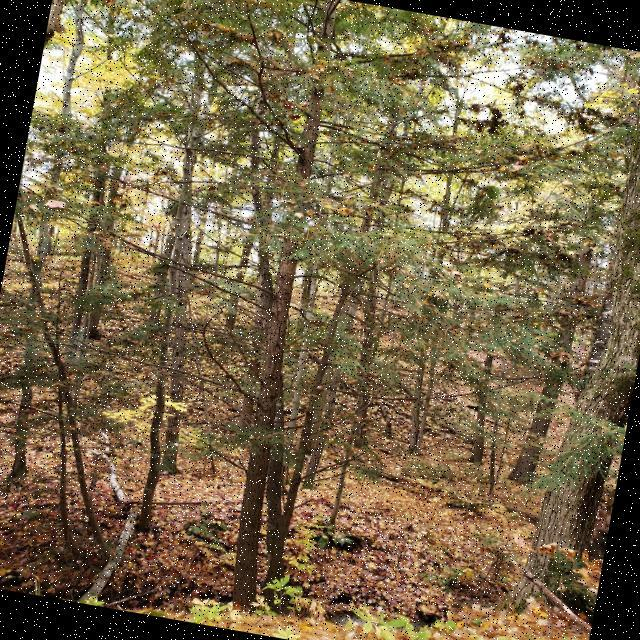fallen_object: (21, 401, 261, 628)
